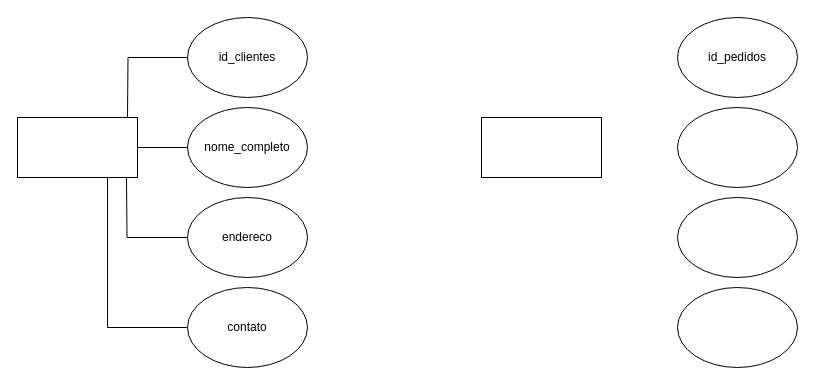
Some shapes in this 815 by 385 pixel diagram are drawn without their labels. Here are the shapes that lost their labels. From the top down, the centre of each, then its label:
At point 77,147: "clientes".
At point 541,147: "pedidos".
